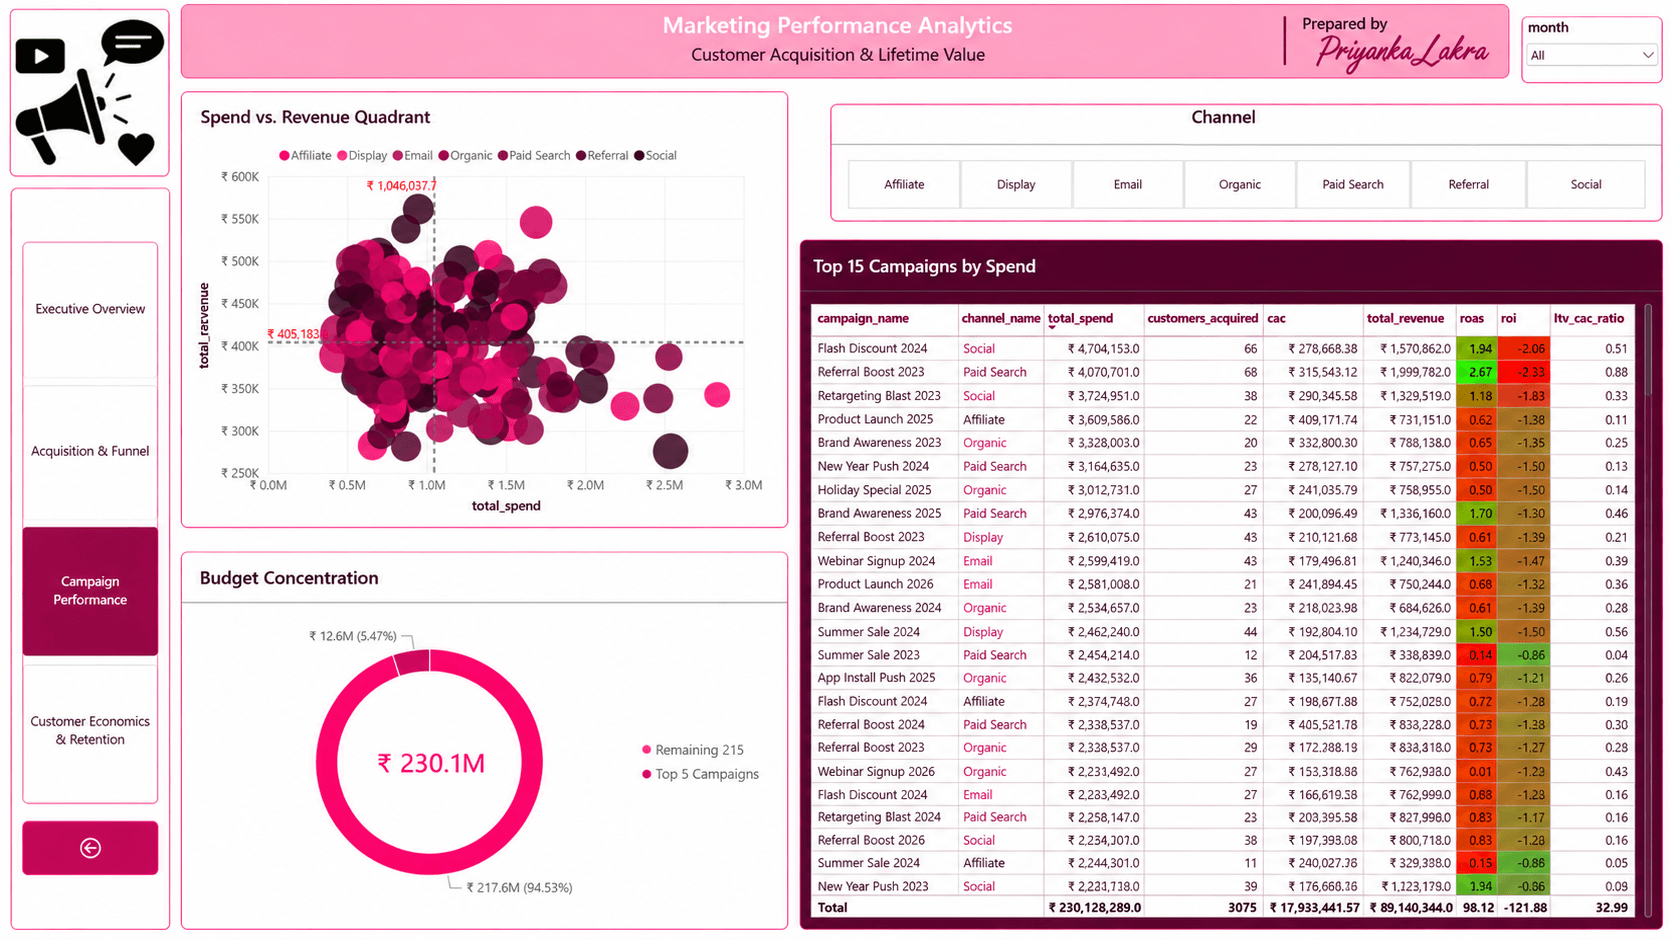

The page's visual inventory and layout, read from the dashboard file:
{"tool":"powerbi","page":{"name":"Campaign Performance","canvas":[1920,1080],"ordinal":2},"visuals":[{"type":"shape","box":[20.2,219.1,185.9,854],"z":0,"group":"g1"},{"type":"tableEx","title":"Campaigns by Spend (one row per campaign)","fields":{"Values":["marketing_analytics vw_campaign_performance.campaign_name","marketing_analytics vw_campaign_performance.channel_name","marketing_analytics vw_campaign_performance.total_spend","Sum(marketing_analytics vw_campaign_performance.customers_acquired)","Sum(marketing_analytics vw_campaign_performance.cac)","Sum(marketing_analytics vw_campaign_performance.total_revenue)","Sum(marketing_analytics vw_campaign_performance.roas)","Sum(marketing_analytics vw_campaign_performance.roi)","Sum(marketing_analytics vw_campaign_performance.ltv_cac_ratio)"]},"box":[901.8,277.9,1003.1,795.1],"z":0},{"type":"scatterChart","title":"Spend vs. Revenue Quadrant","fields":{"X":["marketing_analytics vw_campaign_performance.total_spend"],"Y":["marketing_analytics vw_campaign_performance.total_revenue"],"Series":["marketing_analytics vw_campaign_performance.channel_name"],"Size":["Sum(marketing_analytics vw_campaign_performance.customers_acquired)"]},"box":[217.2,106.7,668.1,495.1],"z":1000},{"type":"slicer","title":"Channel ","fields":{"Values":["marketing_analytics vw_channel_performance.channel_name"]},"box":[937.5,120.8,964.6,133.3],"z":2000},{"type":"slicer","fields":{"Values":["marketing_analytics vw_monthly_marketing_performance.month"]},"box":[1730.1,22.1,173,77.3],"z":3000},{"type":"group","id":"g1","title":"Group 1","box":[16.1,6.8,190,1066.3],"z":4000},{"type":"textbox","title":"Marketing Performance Analytics","box":[216.7,8.3,1497.9,81.2],"z":5000},{"type":"pageNavigator","box":[33.1,278,156.4,646],"z":6000,"group":"g1"},{"type":"donutChart","title":"Budget Concentration","fields":{"Y":["Sum(marketing_analytics vw_campaign_performance.total_spend)"],"Category":["marketing_analytics vw_campaign_performance.Is Top 5 Campaign"]},"box":[217.2,631.3,668.1,436.2],"z":6000},{"type":"actionButton","box":[33.1,940.6,156.4,68.1],"z":7000,"group":"g1"},{"type":"image","box":[16.1,6.8,184.1,198.8],"z":8000,"group":"g1"}]}

Visuals, with their boxes in screenshot pixels (x1, y1, x2, y2), scaled from the page's 1920x1080 canvas onto the 1673x940 screenshot:
shape: {"left": 18, "top": 191, "right": 180, "bottom": 934}
"Campaigns by Spend (one row per campaign)" tableEx: {"left": 786, "top": 242, "right": 1660, "bottom": 934}
"Spend vs. Revenue Quadrant" scatterChart: {"left": 189, "top": 93, "right": 771, "bottom": 524}
"Channel " slicer: {"left": 817, "top": 105, "right": 1657, "bottom": 221}
slicer - marketing_analytics vw_monthly_marketing_performance.month: {"left": 1508, "top": 19, "right": 1658, "bottom": 87}
"Group 1" group: {"left": 14, "top": 6, "right": 180, "bottom": 934}
"Marketing Performance Analytics" textbox: {"left": 189, "top": 7, "right": 1494, "bottom": 78}
pageNavigator: {"left": 29, "top": 242, "right": 165, "bottom": 804}
"Budget Concentration" donutChart: {"left": 189, "top": 549, "right": 771, "bottom": 929}
actionButton: {"left": 29, "top": 819, "right": 165, "bottom": 878}
image: {"left": 14, "top": 6, "right": 174, "bottom": 179}
